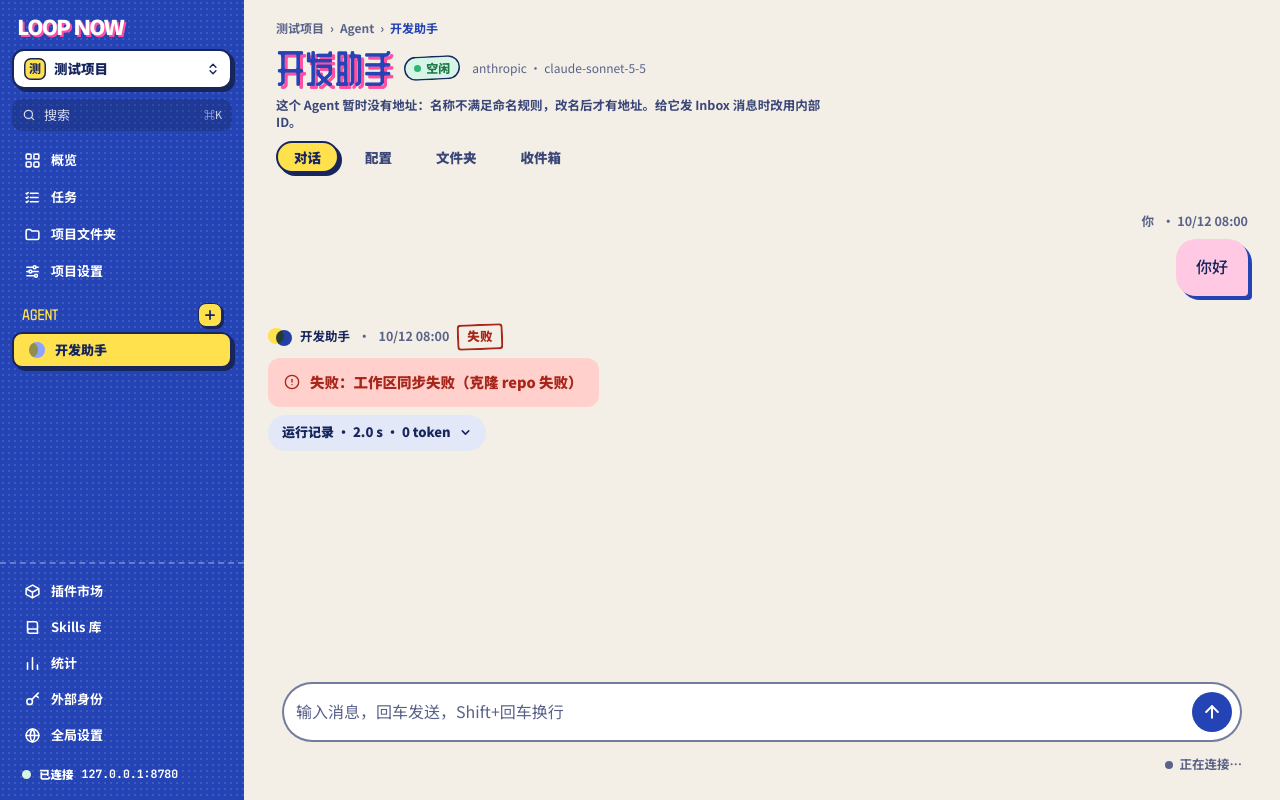
Test: 运行记录时间线 › 同步失败的回复：显示失败的来源与原因，没有“开始回复”
Expected: the element named "对话" is shown, [268,213,1248,451]
Click the button "运行记录 · 2.0 s · 0 token" at (377, 433), box [268,415,486,451]
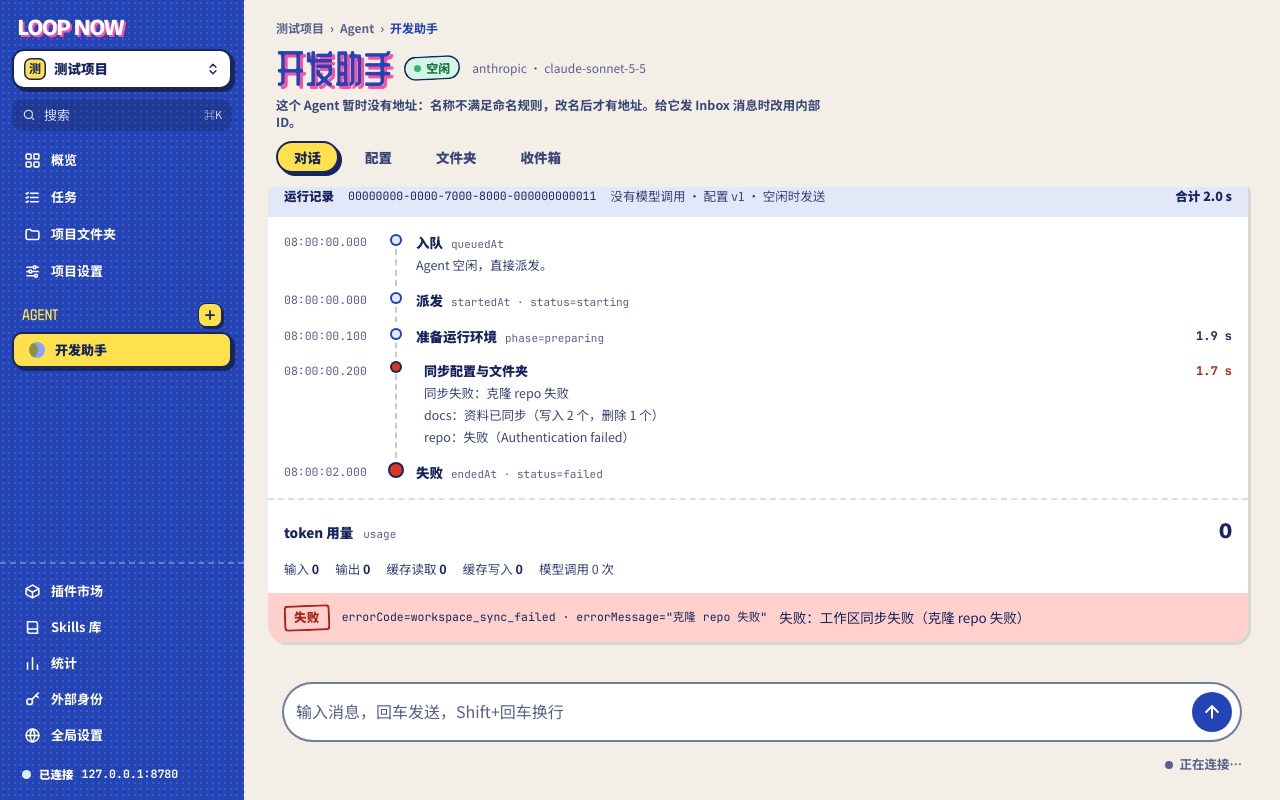
Result: the list item "同步配置与文件夹" shows "同步失败：克隆 repo 失败" at [424,385,569,401]
Result: the list item "同步配置与文件夹" shows "docs：资料已同步（写入 2 个，删除 1 个）" at [424,407,664,423]
Result: the list item "同步配置与文件夹" shows "repo：失败（Authentication failed）" at [424,429,635,445]
